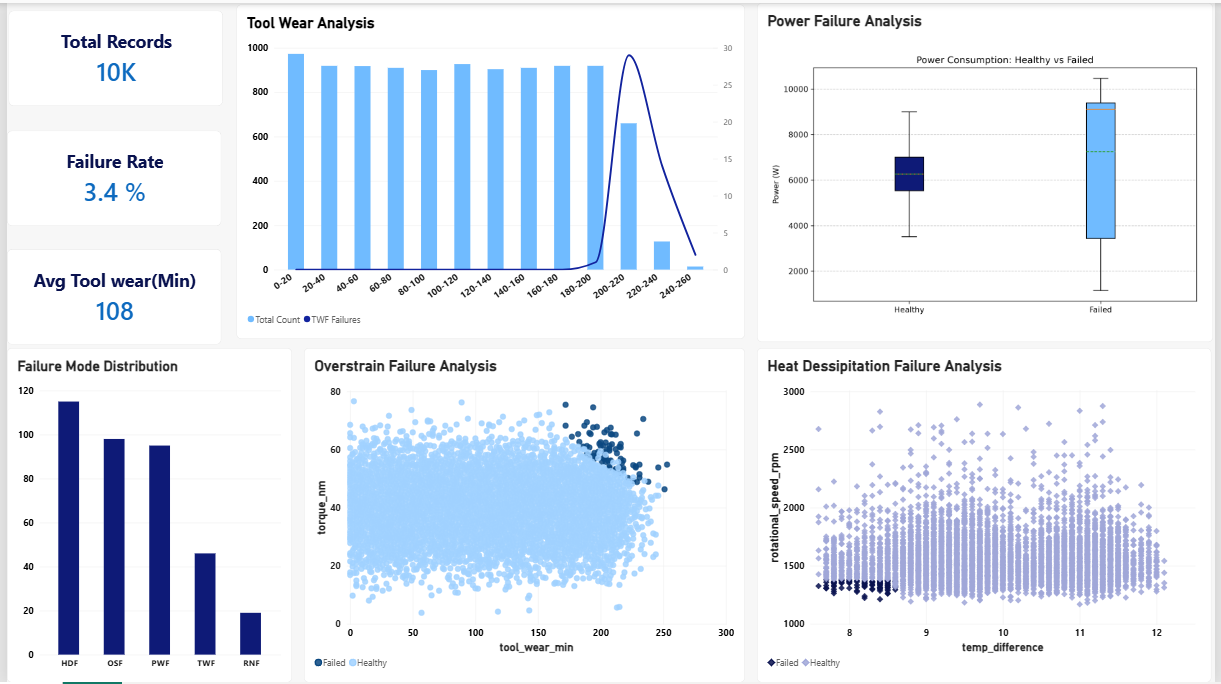

The page's visual inventory and layout, read from the dashboard file:
{"tool":"powerbi","page":{"name":"Page 1","canvas":[1920,1080],"ordinal":0},"visuals":[{"type":"clusteredColumnChart","title":"Failure Mode Distribution","fields":{"Category":["public failure_by_mode.failure_mode"],"Y":["Sum(public failure_by_mode.total_failure)"]},"box":[0,548.8,453.3,532.1],"z":0},{"type":"lineClusteredColumnComboChart","title":"Tool Wear Analysis","fields":{"Category":["public tool_wear_distribution.tool_bin_range"],"Y":["Sum(public tool_wear_distribution.total_count)"],"Y2":["Sum(public tool_wear_distribution.twf_failures)"]},"box":[365,2.4,808.8,532.1],"z":1},{"type":"pythonVisual","title":"Power Failure Analysis","fields":{"Values":["public power_by_failure_status.case","public power_by_failure_status.power_w"]},"box":[1193,0,725.3,539.2],"z":3},{"type":"scatterChart","title":"Heat Dissipation Failure Analysis","fields":{"Series":["public temp_diff_vs_rpm.status"],"X":["public temp_diff_vs_rpm.temp_difference"],"Y":["public temp_diff_vs_rpm.rotational_speed_rpm"]},"box":[1193,548.8,722.9,532.1],"z":5},{"type":"scatterChart","title":"Overstrain Failure Analysis","fields":{"Series":["public torque_vs_tool_wear.status"],"X":["Sum(public torque_vs_tool_wear.tool_wear_min)1"],"Y":["public torque_vs_tool_wear.torque_nm"]},"box":[472.4,548.8,701.5,532.1],"z":8},{"type":"cardVisual","fields":{"Data":["Sum(public overall_failure_rate.avg_failure_rate)"]},"box":[0,202.8,341.2,152.7],"z":9},{"type":"cardVisual","fields":{"Data":["Sum(public total_machines.total_records)"]},"box":[2.4,11.9,341.2,152.7],"z":11},{"type":"cardVisual","fields":{"Data":["Sum(public avg_tool_wear.avg_tool_wear)"]},"box":[0,391.3,341.2,152.7],"z":12}]}

Visuals, with their boxes in screenshot pixels (x1, y1, x2, y2), scaled from the page's 1920x1080 canvas onto the 1221x684 screenshot:
"Failure Mode Distribution" clusteredColumnChart: 0:348:288:683
"Tool Wear Analysis" lineClusteredColumnComboChart: 232:2:746:339
"Power Failure Analysis" pythonVisual: 759:0:1220:341
"Heat Dissipation Failure Analysis" scatterChart: 759:348:1218:683
"Overstrain Failure Analysis" scatterChart: 300:348:747:683
cardVisual - Sum(public overall_failure_rate.avg_failure_rate): 0:128:217:225
cardVisual - Sum(public total_machines.total_records): 2:8:219:104
cardVisual - Sum(public avg_tool_wear.avg_tool_wear): 0:248:217:345
